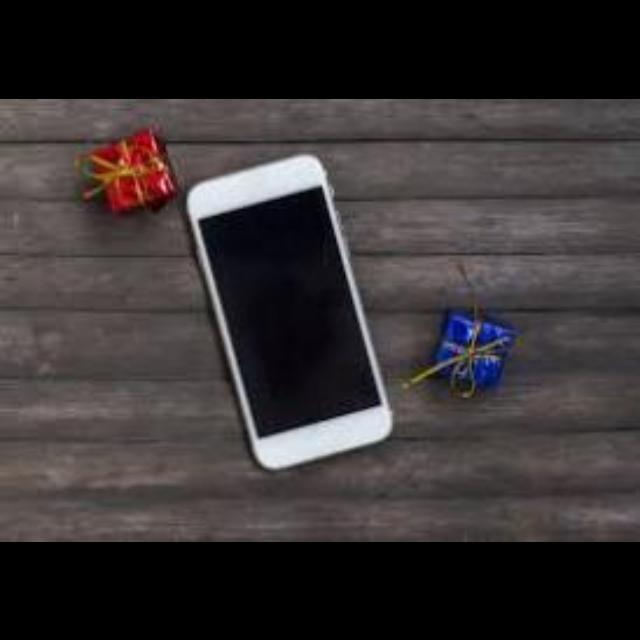Phone: (188, 153, 392, 470)
